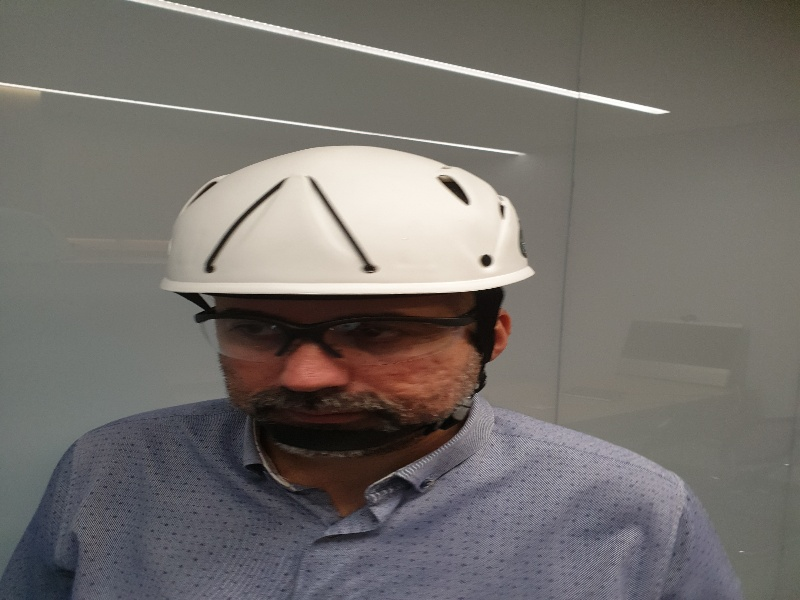Baret: (163, 146, 537, 292)
Gozluk: (194, 306, 502, 356)
